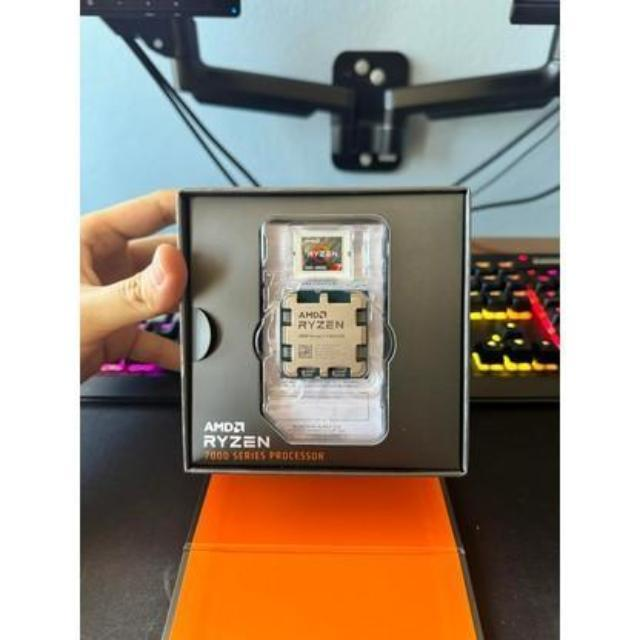CPU: (280, 293, 368, 375)
